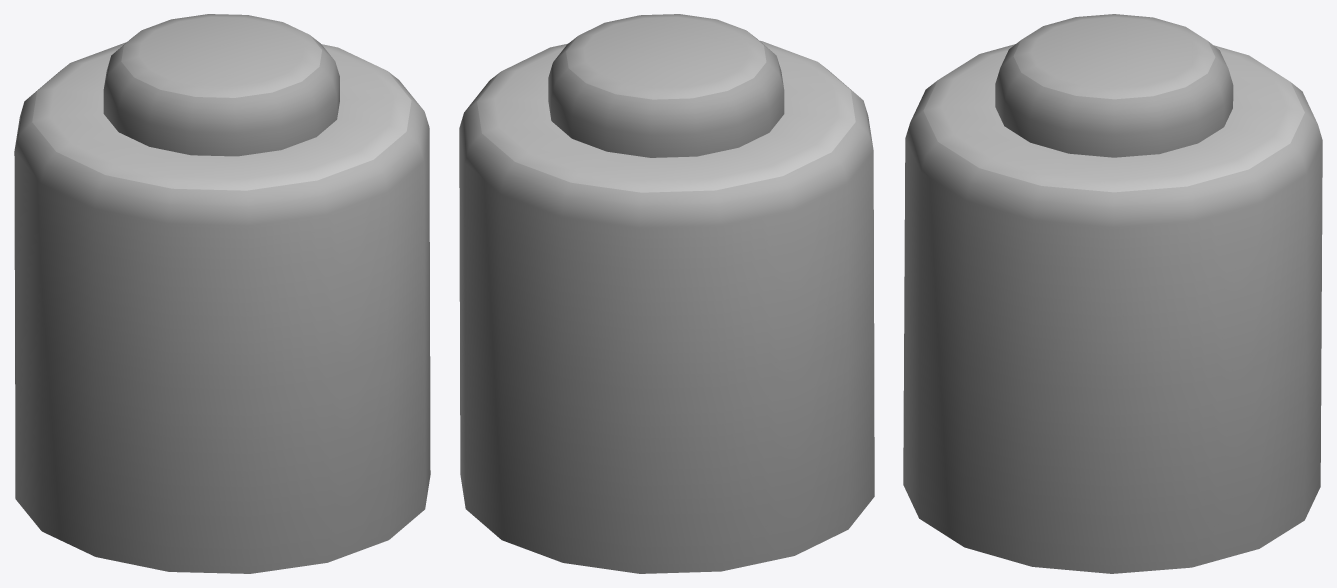
File: HButton.fbx
The picture shows the model from 3 angles, left to right: view 1: azimuth 30°, elevation 25°; view 2: azimuth 150°, elevation 25°; view 3: azimuth 270°, elevation 25°; orthographic projection.
Parts seen in each view (by area): view 1: HButton; view 2: HButton; view 3: HButton.
Part boxes in pixels (x1,y1,x2,y2): HButton: (14,14,430,573); HButton: (459,14,874,573); HButton: (903,14,1322,573).
Size of the model in its own units: 8.95 by 10.28 by 8.99.
1 material, 1 textured.
